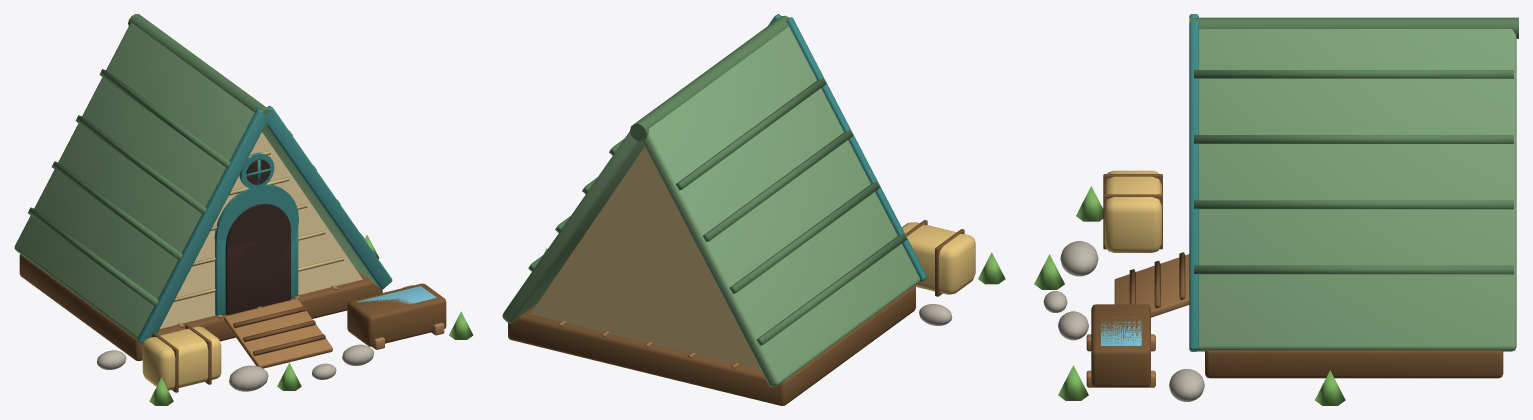
Rendered from goose-house.glb.
The picture shows the model from 3 angles, left to right: view 1: azimuth 30°, elevation 25°; view 2: azimuth 150°, elevation 25°; view 3: azimuth 270°, elevation 25°; orthographic projection. The views are drawn at different scales.
Parts seen in each view (by area): view 1: GOOSE HOUSE · roof slab -1, GOOSE HOUSE · front gable, GOOSE HOUSE · deck, GOOSE HOUSE · trough, GOOSE HOUSE · barge board -1, GOOSE HOUSE · ramp, GOOSE HOUSE · straw bale, GOOSE HOUSE · door, GOOSE HOUSE · barge board 1, GOOSE HOUSE · door arch, GOOSE HOUSE · door arch frame, GOOSE HOUSE · ridge cap (+14 smaller); view 2: GOOSE HOUSE · roof slab -1, GOOSE HOUSE · back gable, GOOSE HOUSE · deck, GOOSE HOUSE · roof slab 1, GOOSE HOUSE · straw bale, GOOSE HOUSE · ridge cap, GOOSE HOUSE · barge board -1, GOOSE HOUSE · shingle course -10, GOOSE HOUSE · shingle course -11, GOOSE HOUSE · shingle course -12, GOOSE HOUSE · shingle course -13, GOOSE HOUSE · stone 3 (+1 smaller); view 3: GOOSE HOUSE · roof slab 1, GOOSE HOUSE · deck, GOOSE HOUSE · trough, GOOSE HOUSE · straw bale, GOOSE HOUSE · ridge cap, GOOSE HOUSE · shingle course 12, GOOSE HOUSE · shingle course 13, GOOSE HOUSE · barge board 1, GOOSE HOUSE · shingle course 10, GOOSE HOUSE · shingle course 11, GOOSE HOUSE · ramp, GOOSE HOUSE · stone 0 (+7 smaller).
Part boxes in pixels (x1=…): GOOSE HOUSE · roof slab -1: x1=14, y1=22, x2=254, y2=338; GOOSE HOUSE · front gable: x1=159, y1=132, x2=362, y2=328; GOOSE HOUSE · deck: x1=19, y1=254, x2=382, y2=360; GOOSE HOUSE · trough: x1=347, y1=283, x2=446, y2=346; GOOSE HOUSE · barge board -1: x1=137, y1=108, x2=268, y2=343; GOOSE HOUSE · ramp: x1=223, y1=299, x2=332, y2=368; GOOSE HOUSE · straw bale: x1=142, y1=326, x2=221, y2=390; GOOSE HOUSE · door: x1=225, y1=235, x2=290, y2=315; GOOSE HOUSE · barge board 1: x1=264, y1=105, x2=392, y2=289; GOOSE HOUSE · door arch: x1=226, y1=203, x2=291, y2=273; GOOSE HOUSE · door arch frame: x1=214, y1=184, x2=298, y2=260; GOOSE HOUSE · ridge cap: x1=128, y1=14, x2=273, y2=125; GOOSE HOUSE · roof slab -1: x1=642, y1=26, x2=920, y2=387; GOOSE HOUSE · back gable: x1=530, y1=146, x2=760, y2=370; GOOSE HOUSE · deck: x1=508, y1=285, x2=915, y2=405; GOOSE HOUSE · roof slab 1: x1=502, y1=131, x2=644, y2=323; GOOSE HOUSE · straw bale: x1=902, y1=222, x2=975, y2=294; GOOSE HOUSE · ridge cap: x1=630, y1=15, x2=788, y2=141; GOOSE HOUSE · barge board -1: x1=786, y1=17, x2=926, y2=281; GOOSE HOUSE · shingle course -10: x1=756, y1=233, x2=906, y2=345; GOOSE HOUSE · shingle course -11: x1=730, y1=181, x2=879, y2=293; GOOSE HOUSE · shingle course -12: x1=703, y1=129, x2=852, y2=242; GOOSE HOUSE · shingle course -13: x1=676, y1=77, x2=825, y2=190; GOOSE HOUSE · stone 3: x1=919, y1=304, x2=952, y2=325; GOOSE HOUSE · roof slab 1: x1=1196, y1=29, x2=1516, y2=351; GOOSE HOUSE · deck: x1=1205, y1=350, x2=1503, y2=378; GOOSE HOUSE · trough: x1=1091, y1=304, x2=1150, y2=387; GOOSE HOUSE · straw bale: x1=1104, y1=170, x2=1161, y2=252; GOOSE HOUSE · ridge cap: x1=1189, y1=17, x2=1518, y2=38; GOOSE HOUSE · shingle course 12: x1=1194, y1=200, x2=1513, y2=209; GOOSE HOUSE · shingle course 13: x1=1194, y1=265, x2=1513, y2=274; GOOSE HOUSE · barge board 1: x1=1189, y1=21, x2=1198, y2=351; GOOSE HOUSE · shingle course 10: x1=1194, y1=70, x2=1513, y2=78; GOOSE HOUSE · shingle course 11: x1=1194, y1=135, x2=1513, y2=143; GOOSE HOUSE · ramp: x1=1114, y1=254, x2=1189, y2=317; GOOSE HOUSE · stone 0: x1=1060, y1=241, x2=1098, y2=276.
Bounding box in the file's own units: 3.93 × 2.7 × 4.06.
